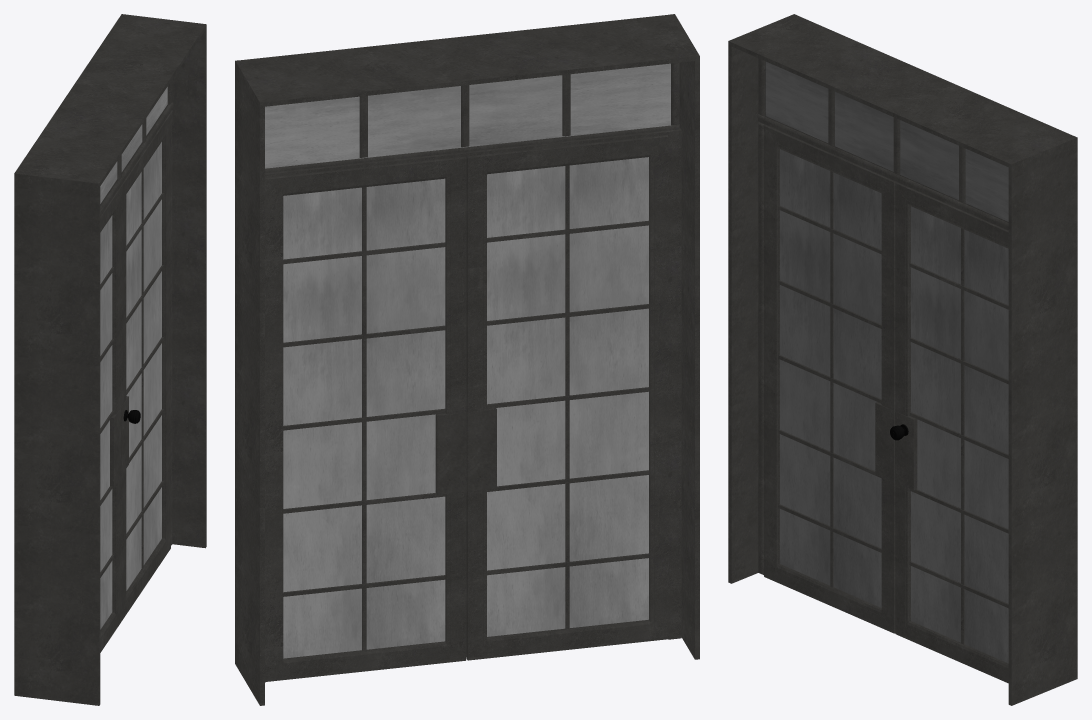
File: ballkoni3.glb
3 views of the same model, side by side, from view 1: azimuth 30°, elevation 25°; view 2: azimuth 150°, elevation 25°; view 3: azimuth 270°, elevation 25° (orthographic). The views are drawn at different scales.
Visible parts, largest first — view 1: Box04, Box2631, Box2632, Box2643, Box2624, Box01, Box2623, Box2630, Box2644, Box2633, Box05; view 2: Box01, Box2643, Box2623, Box2624, Box2644, Box2632, Box2631, Box2630, Box04, Box05, Box2633; view 3: Box01, Box2631, Box2643, Box2623, Box2632, Box04, Box2624, Box2644, Box2630, Box05, Box2633.
Boxes of the visible parts, x1,y1,x2,y2 form: Box04: [14, 171, 100, 705]; Box2631: [120, 14, 206, 548]; Box2632: [16, 16, 205, 185]; Box2643: [126, 142, 161, 590]; Box2624: [120, 113, 170, 621]; Box01: [100, 215, 112, 629]; Box2623: [100, 187, 121, 652]; Box2630: [100, 79, 173, 545]; Box2644: [100, 87, 167, 203]; Box2633: [110, 408, 121, 486]; Box05: [121, 396, 128, 475]; Box01: [487, 157, 648, 636]; Box2643: [283, 178, 445, 658]; Box2623: [466, 135, 668, 660]; Box2624: [265, 156, 466, 681]; Box2644: [265, 63, 670, 168]; Box2632: [240, 14, 698, 106]; Box2631: [235, 60, 264, 705]; Box2630: [265, 62, 681, 682]; Box04: [670, 14, 699, 659]; Box05: [435, 412, 466, 494]; Box2633: [466, 408, 496, 491]; Box01: [780, 149, 881, 607]; Box2631: [1008, 136, 1077, 705]; Box2643: [911, 206, 1008, 663]; Box2623: [764, 125, 896, 633]; Box2632: [731, 15, 1073, 166]; Box04: [728, 14, 796, 583]; Box2624: [895, 182, 1008, 683]; Box2644: [765, 61, 1008, 221]; Box2630: [757, 58, 1008, 574]; Box05: [895, 411, 917, 490]; Box2633: [875, 402, 894, 481].
Bounding box in the file's own units: 0.8281 × 1.39 × 0.8119.
3 materials, 2 textured.
